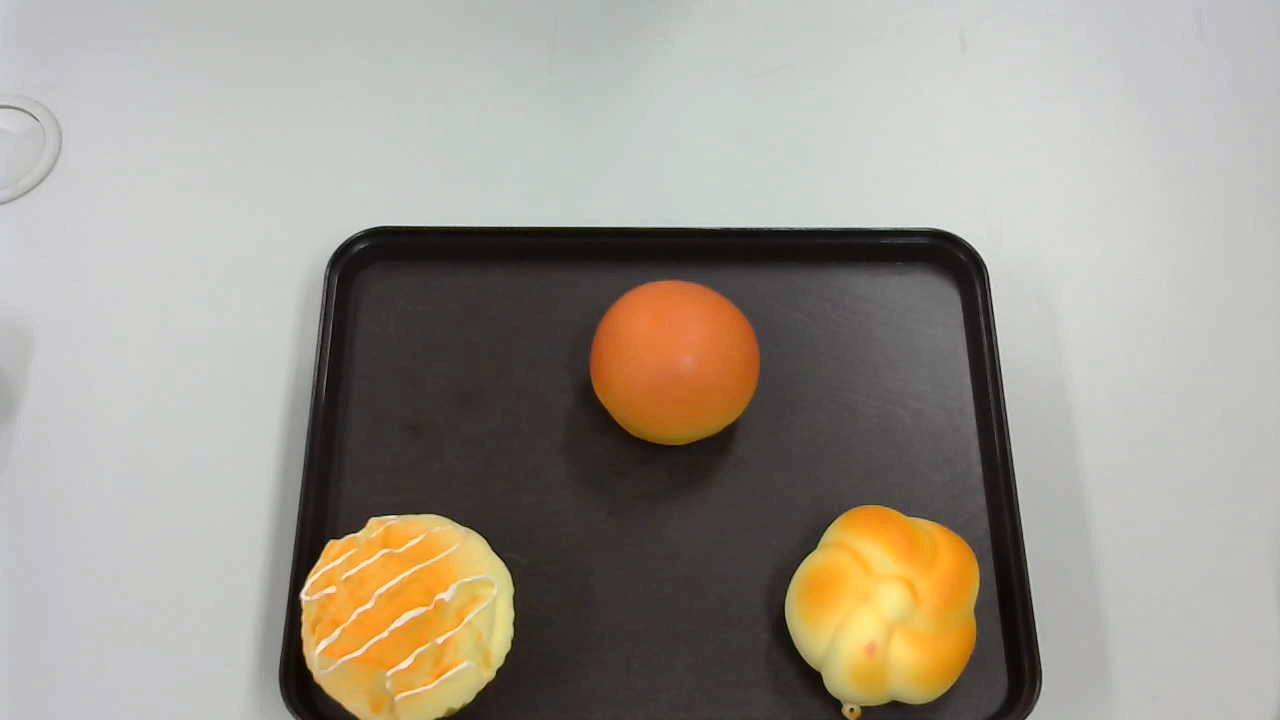bun: (590, 278, 760, 444)
cupcake: (300, 514, 515, 720)
twist bread: (784, 504, 983, 720)
